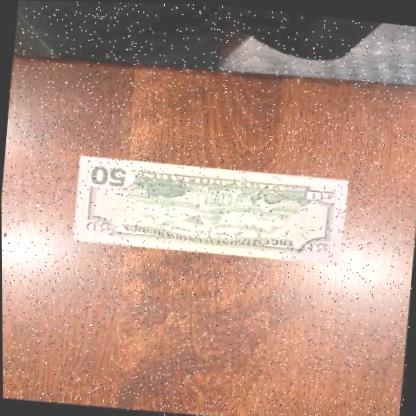fifty-back: (70, 149, 350, 270)
